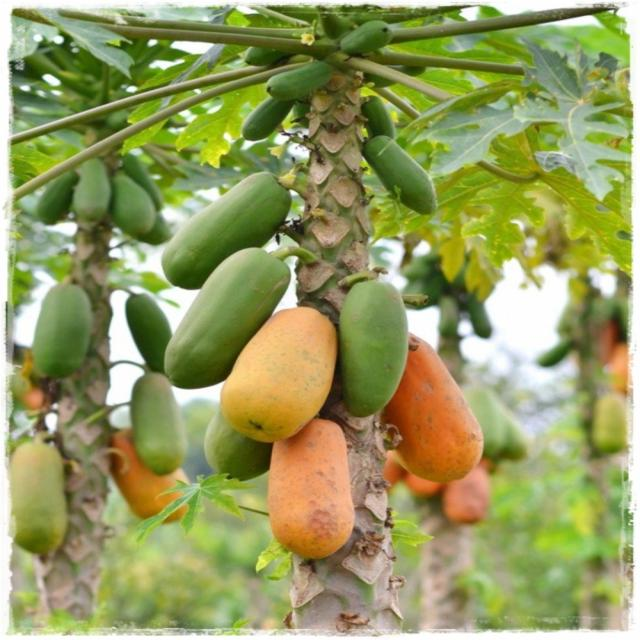Pepaya rippen: (219, 310, 334, 446), (263, 418, 357, 558), (408, 344, 488, 477), (13, 434, 71, 564), (114, 427, 188, 520)
Pepaya unrippen: (155, 177, 289, 281), (346, 283, 416, 412), (370, 133, 448, 220), (34, 277, 90, 385), (72, 156, 106, 224)
